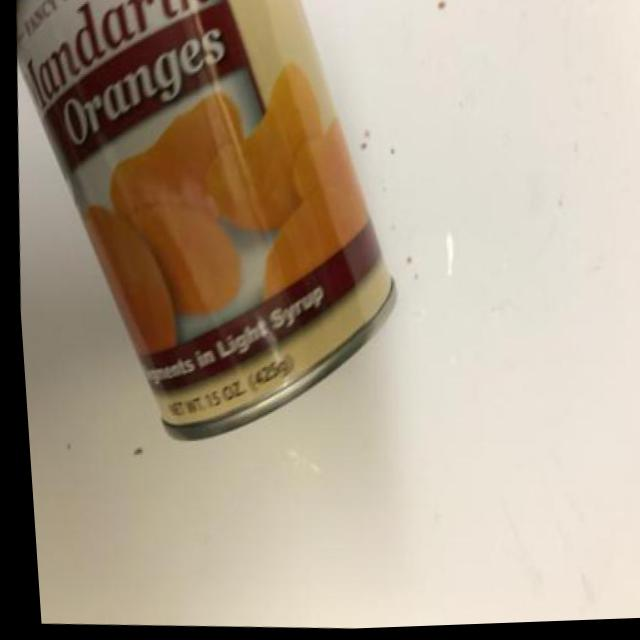metal: (0, 0, 427, 462)
